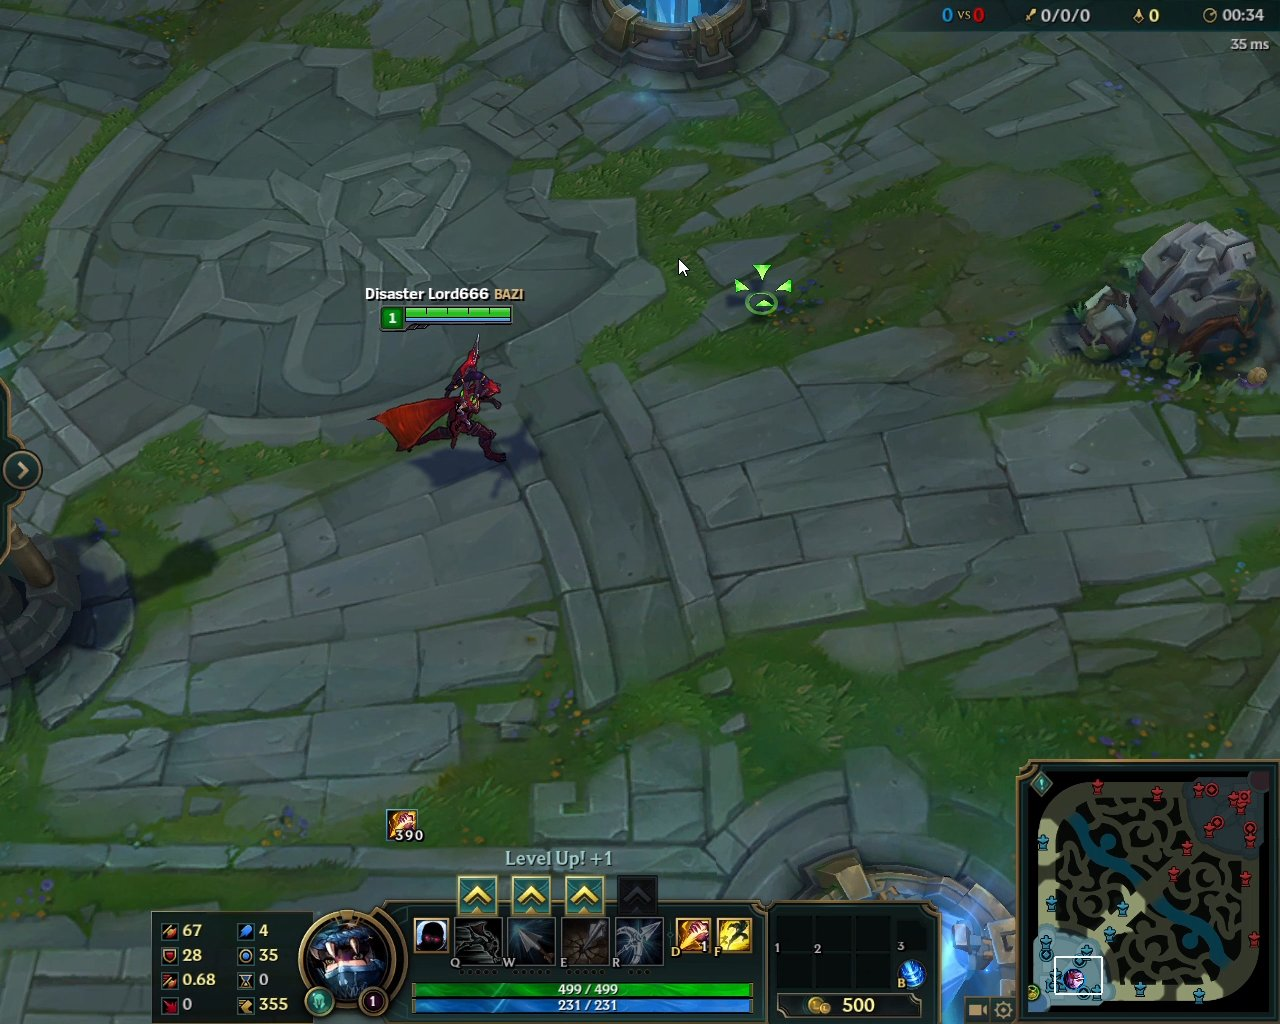Vayne: (366, 336, 520, 481)
